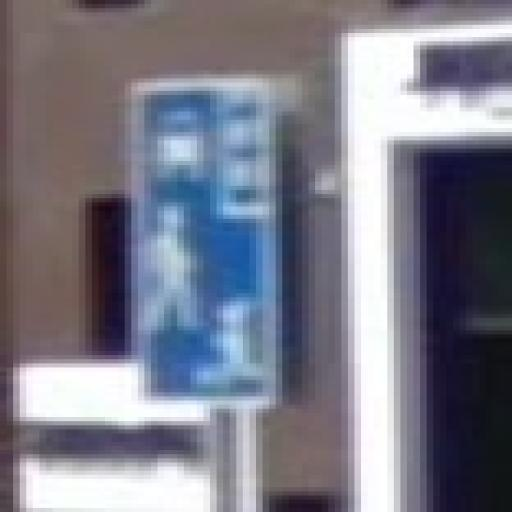traffic_sign: (132, 79, 290, 410)
